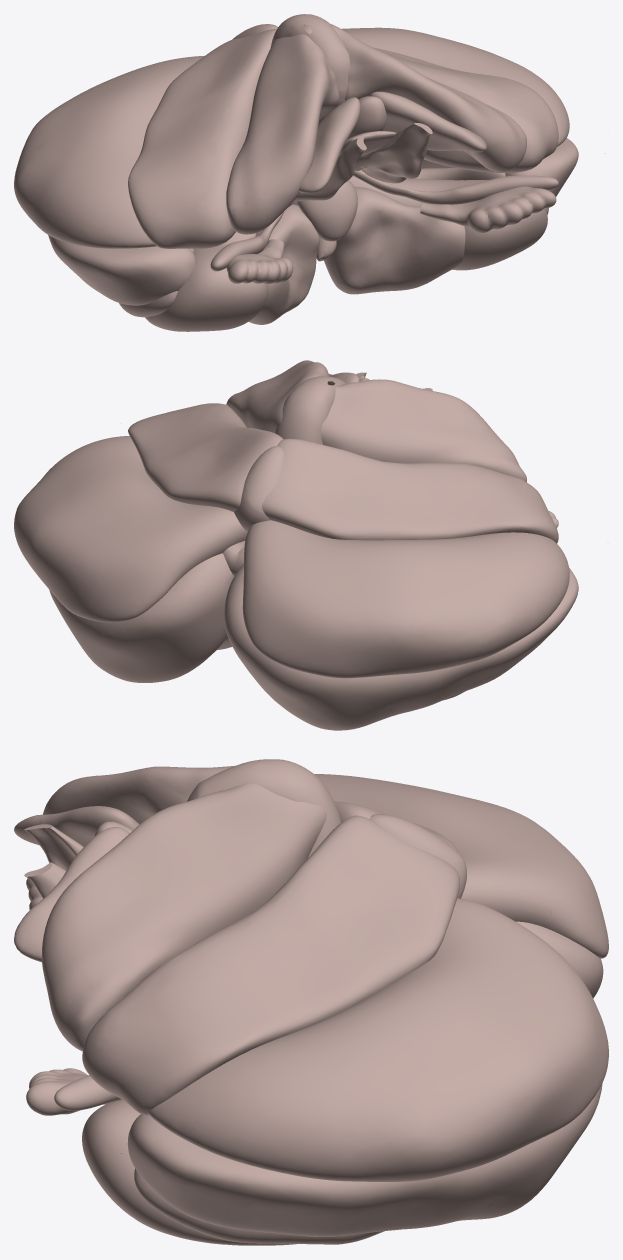
File: cerebellum-core-balanced.glb
3 views of the same model, one above another, from view 1: azimuth 30°, elevation 25°; view 2: azimuth 150°, elevation 25°; view 3: azimuth 270°, elevation 25° (orthographic). The views are drawn at different scales.
Parts seen in each view (by area): view 1: organ.cerebellum-partial; view 2: organ.cerebellum-partial; view 3: organ.cerebellum-partial.
Part boxes in pixels (box(x1,y1,x2,y2)): organ.cerebellum-partial: box(14, 14, 605, 331); organ.cerebellum-partial: box(14, 360, 578, 730); organ.cerebellum-partial: box(14, 759, 608, 1245).
Bounding box in the file's own units: 0.0983 × 0.0529 × 0.071.
